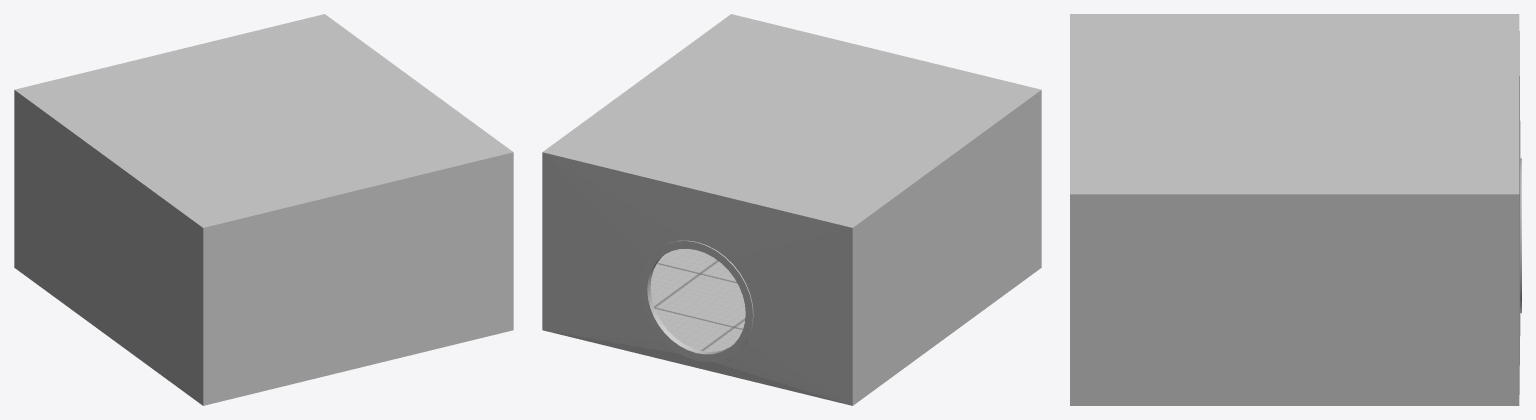
The model's file is washitsu_room_01.fbx.
3 views of the same model, side by side, from view 1: azimuth 30°, elevation 25°; view 2: azimuth 150°, elevation 25°; view 3: azimuth 270°, elevation 25° (orthographic). The views are drawn at different scales.
Visible parts, largest first — view 1: washitsu_room_01; view 2: washitsu_room_01; view 3: washitsu_room_01.
Part boxes in pixels (<box>): washitsu_room_01: <box>14,14,513,405</box>; washitsu_room_01: <box>542,14,1041,405</box>; washitsu_room_01: <box>1070,14,1521,405</box>.
Size of the model in its own units: 58.89 by 32.27 by 62.41.
Materials: 2 (2 with a texture image).
